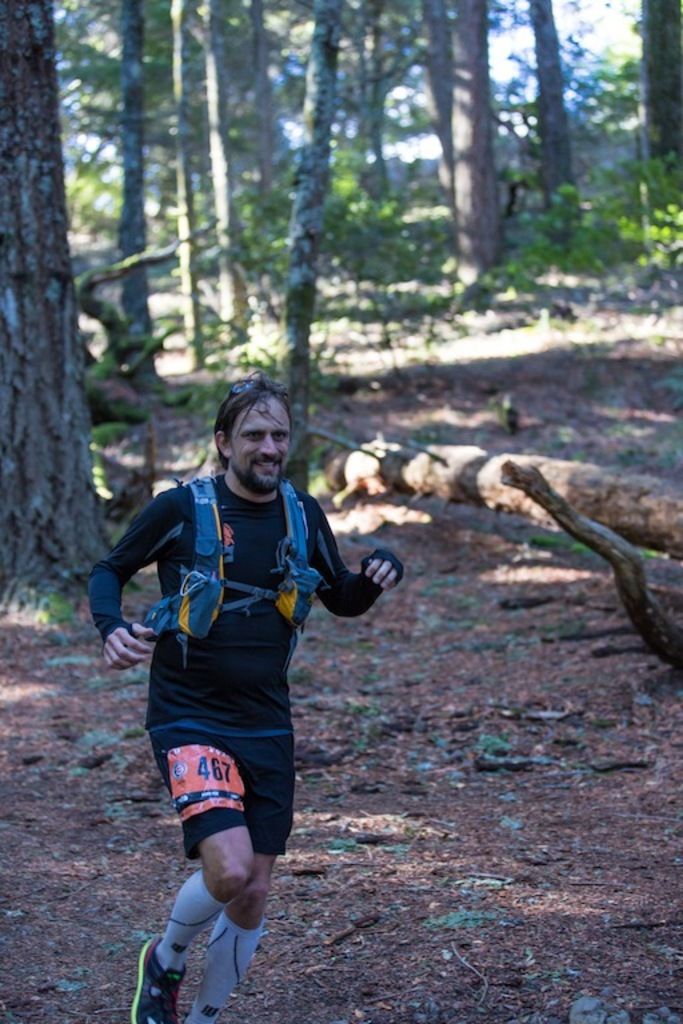Person: (86, 369, 404, 1024)
